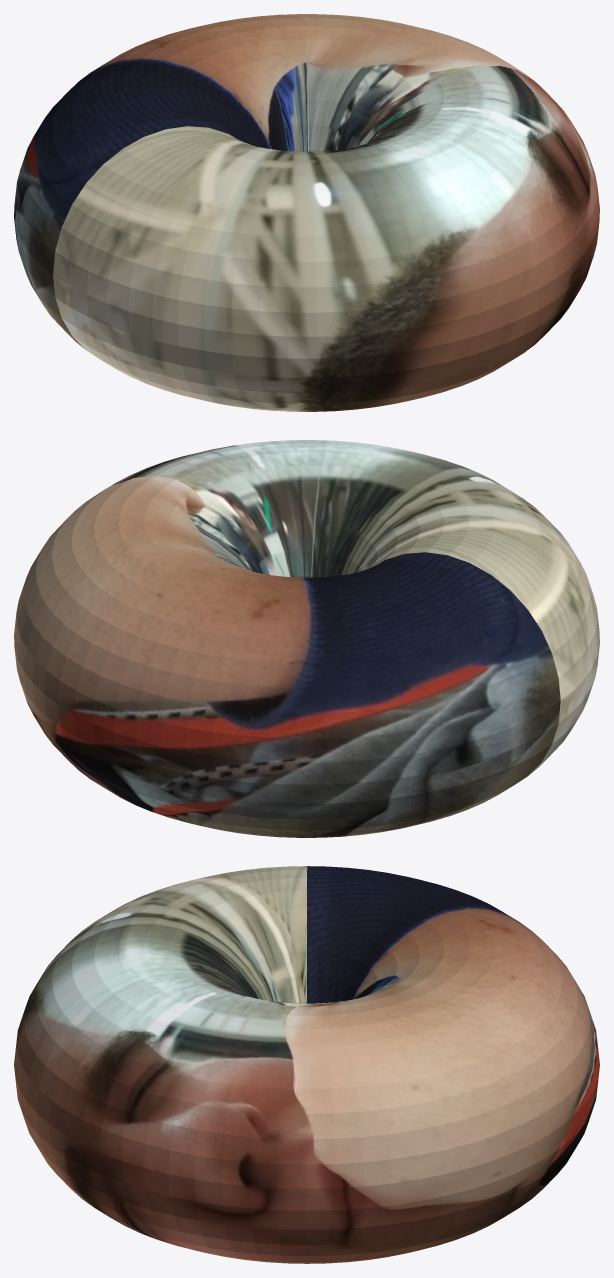
File: taylor.dae
3 renders of one model, top to bottom at view 1: azimuth 30°, elevation 25°; view 2: azimuth 150°, elevation 25°; view 3: azimuth 270°, elevation 25°, orthographic.
Parts seen in each view (by area): view 1: Torus; view 2: Torus; view 3: Torus.
Part boxes in pixels (<box>): Torus: <box>14,14,599,411</box>; Torus: <box>14,440,599,837</box>; Torus: <box>14,866,599,1263</box>.
Size of the model in its own units: 3.6 by 3.6 by 1.6.
Materials: 1 (1 with a texture image).
